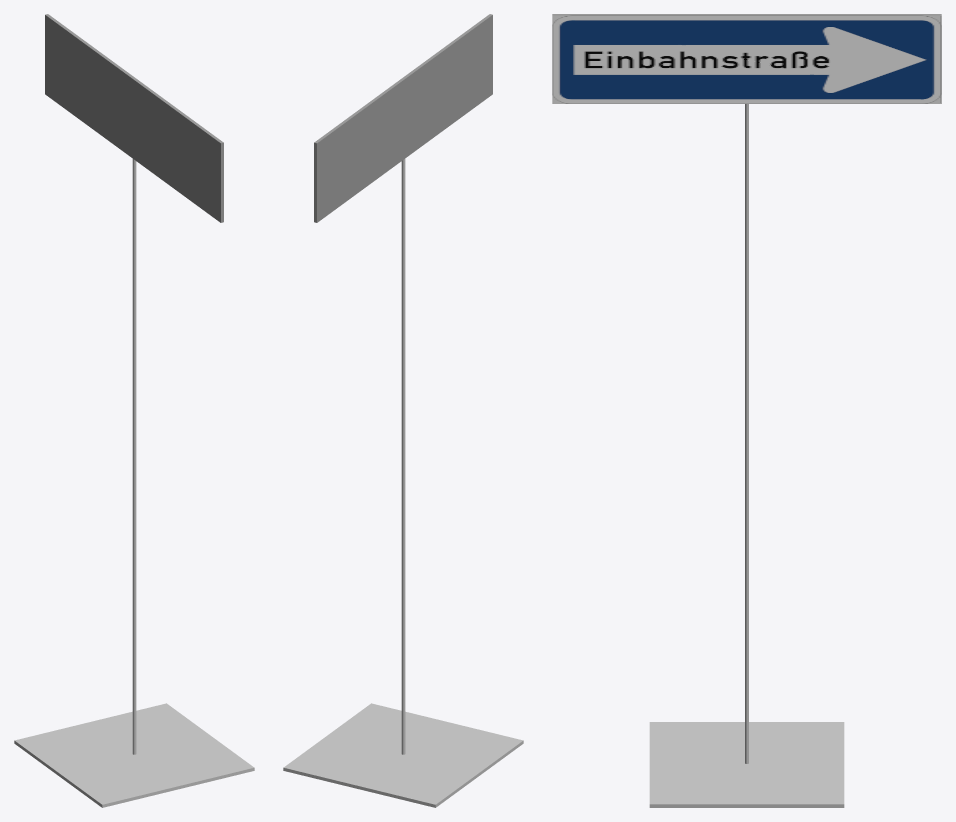
The model's file is EinbahnstrasseRechts.fbx.
3 renders of one model, left to right at view 1: azimuth 30°, elevation 25°; view 2: azimuth 150°, elevation 25°; view 3: azimuth 270°, elevation 25°, orthographic. The views are drawn at different scales.
Visible parts, largest first — view 1: Cube, Cube001, Cylinder; view 2: Cube, Cube001, Cylinder; view 3: Cube, Cube001, Cylinder.
Boxes of the visible parts, left/top/right/bottom form: Cube: left=45, top=14, right=223, bottom=222; Cube001: left=14, top=703, right=254, bottom=807; Cylinder: left=132, top=159, right=136, bottom=754; Cube: left=314, top=14, right=492, bottom=222; Cube001: left=283, top=703, right=523, bottom=807; Cylinder: left=401, top=159, right=405, bottom=754; Cube: left=552, top=14, right=941, bottom=103; Cube001: left=649, top=722, right=844, bottom=807; Cylinder: left=745, top=104, right=748, bottom=763.
Size of the model in its own units: 69.98 by 298 by 140.
